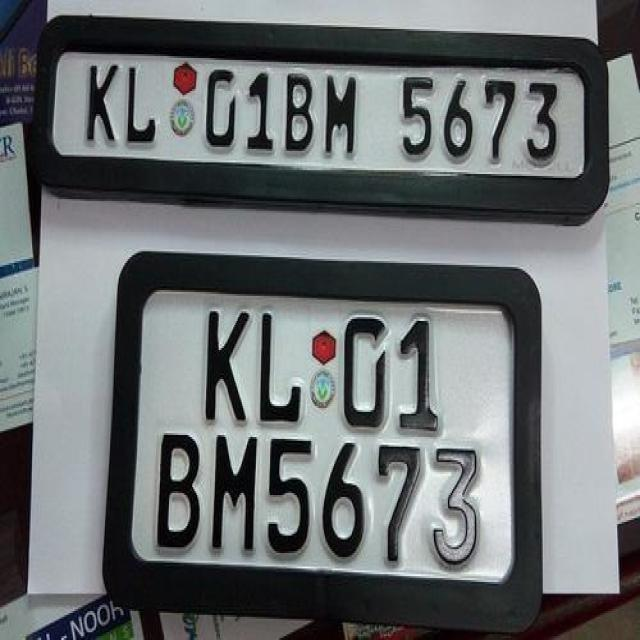plate: (107, 245, 546, 640), (21, 16, 613, 228)
